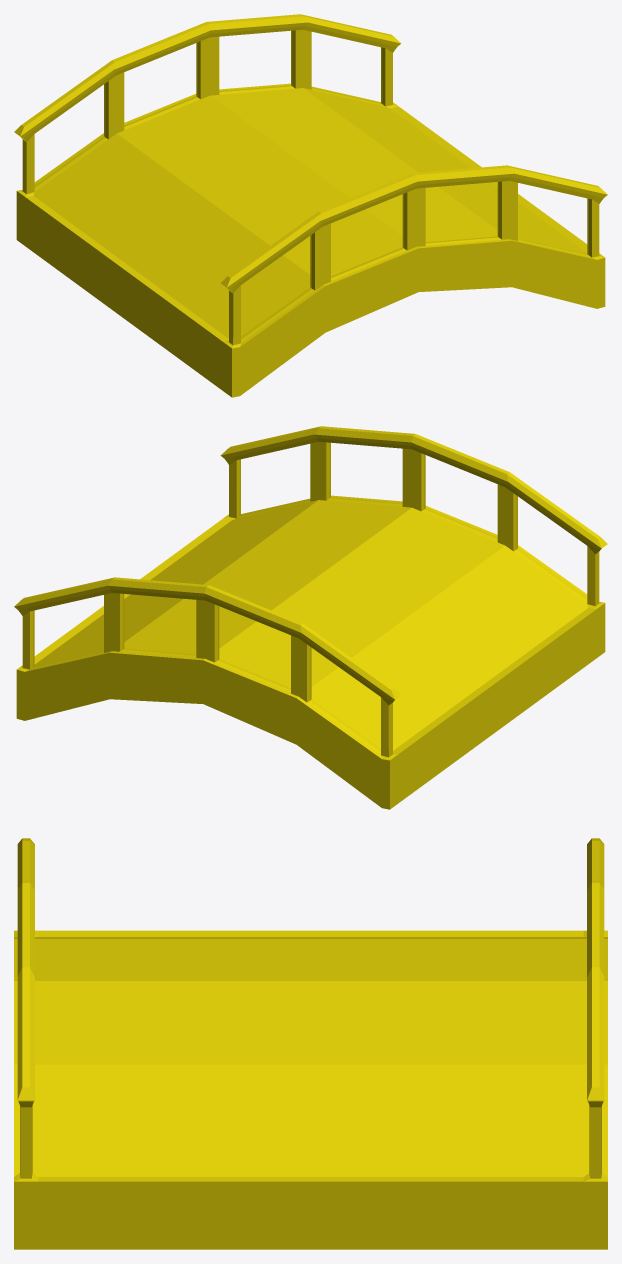
Rendered from bridge.glb.
The picture shows the model from 3 angles, top to bottom: view 1: azimuth 30°, elevation 25°; view 2: azimuth 150°, elevation 25°; view 3: azimuth 270°, elevation 25°; orthographic projection. The views are drawn at different scales.
Parts seen in each view (by area): view 1: Cube; view 2: Cube; view 3: Cube.
Part boxes in pixels (left/top/right/bottom): Cube: left=14, top=14, right=607, bottom=397; Cube: left=14, top=426, right=607, bottom=809; Cube: left=14, top=838, right=607, bottom=1249.
Size of the model in its own units: 2.04 by 0.8974 by 2.
